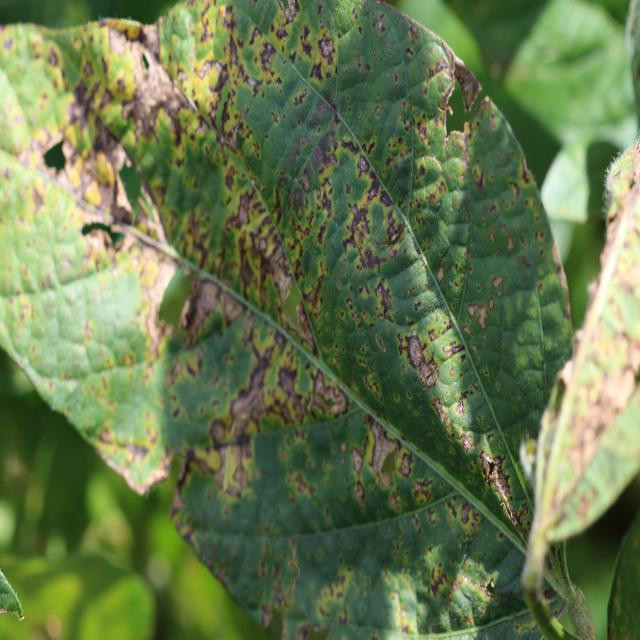Bacterial_Blight: (407, 447, 531, 556), (93, 208, 233, 299), (326, 69, 398, 233), (577, 206, 631, 366), (242, 362, 355, 422), (454, 123, 475, 341), (10, 15, 139, 43), (379, 616, 523, 640), (171, 80, 200, 120), (215, 84, 232, 142), (221, 445, 241, 493), (212, 431, 258, 451), (427, 0, 435, 7)
Soybean: (0, 0, 572, 640)
